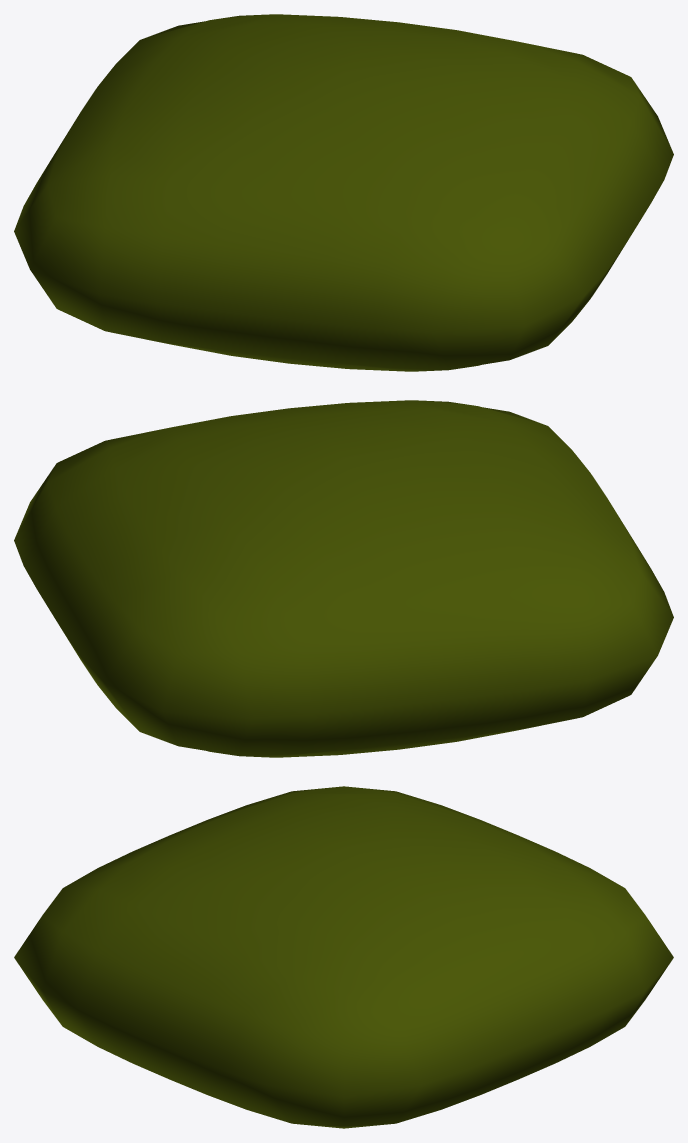
Rendered from p1_piece.fbx.
The picture shows the model from 3 angles, top to bottom: view 1: azimuth 30°, elevation 25°; view 2: azimuth 150°, elevation 25°; view 3: azimuth 270°, elevation 25°; orthographic projection. The views are drawn at different scales.
Visible parts, largest first — view 1: p1_piece_geo; view 2: p1_piece_geo; view 3: p1_piece_geo.
Boxes of the visible parts, x1,y1,x2,y2 form: p1_piece_geo: (14,14,673,371); p1_piece_geo: (14,400,673,757); p1_piece_geo: (14,786,673,1128).
Size of the model in its own units: 27.05 by 10 by 27.05.
